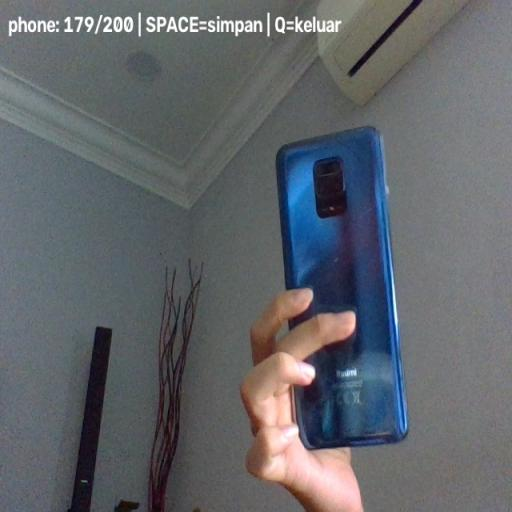Phone: (276, 125, 410, 449)
